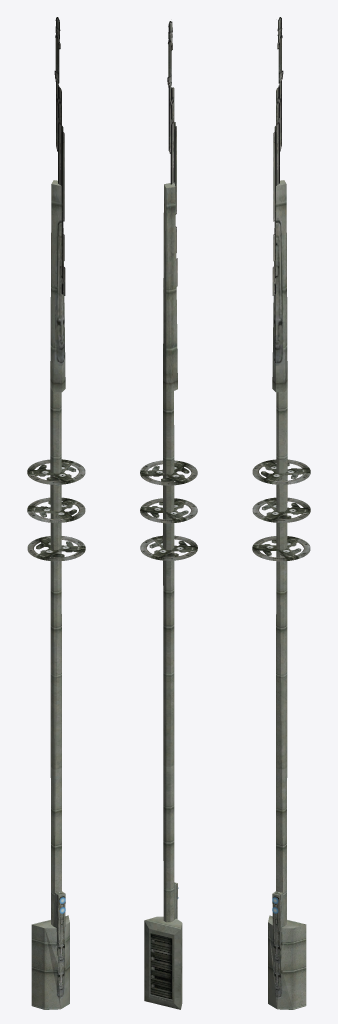
File: thm_corl_power_arial_thin_l1.fbx
3 views of the same model, side by side, from view 1: azimuth 30°, elevation 25°; view 2: azimuth 150°, elevation 25°; view 3: azimuth 330°, elevation 25° (orthographic).
Visible parts, largest first — view 1: mesh_node; view 2: mesh_node; view 3: mesh_node.
Part boxes in pixels (x1,y1,x2,y2): mesh_node: (27, 17, 85, 1009); mesh_node: (140, 21, 197, 1009); mesh_node: (252, 17, 310, 1009).
Size of the model in its own units: 0.7343 by 12.98 by 0.7343.
